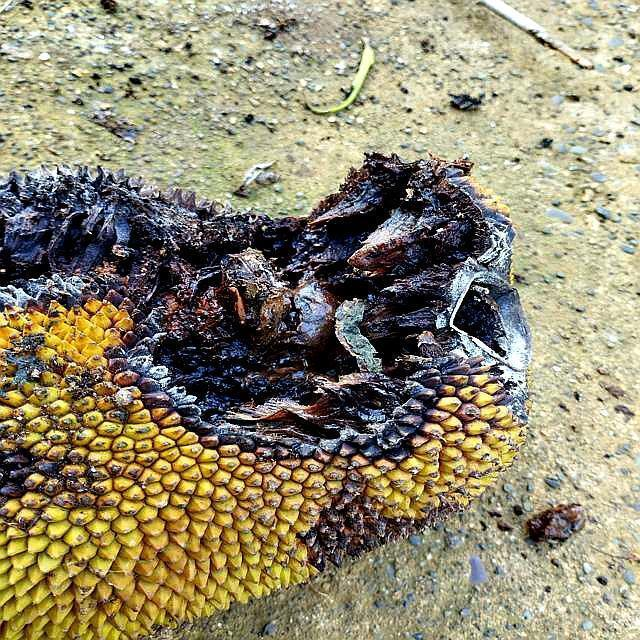Biodegradable: (1, 167, 515, 623)
